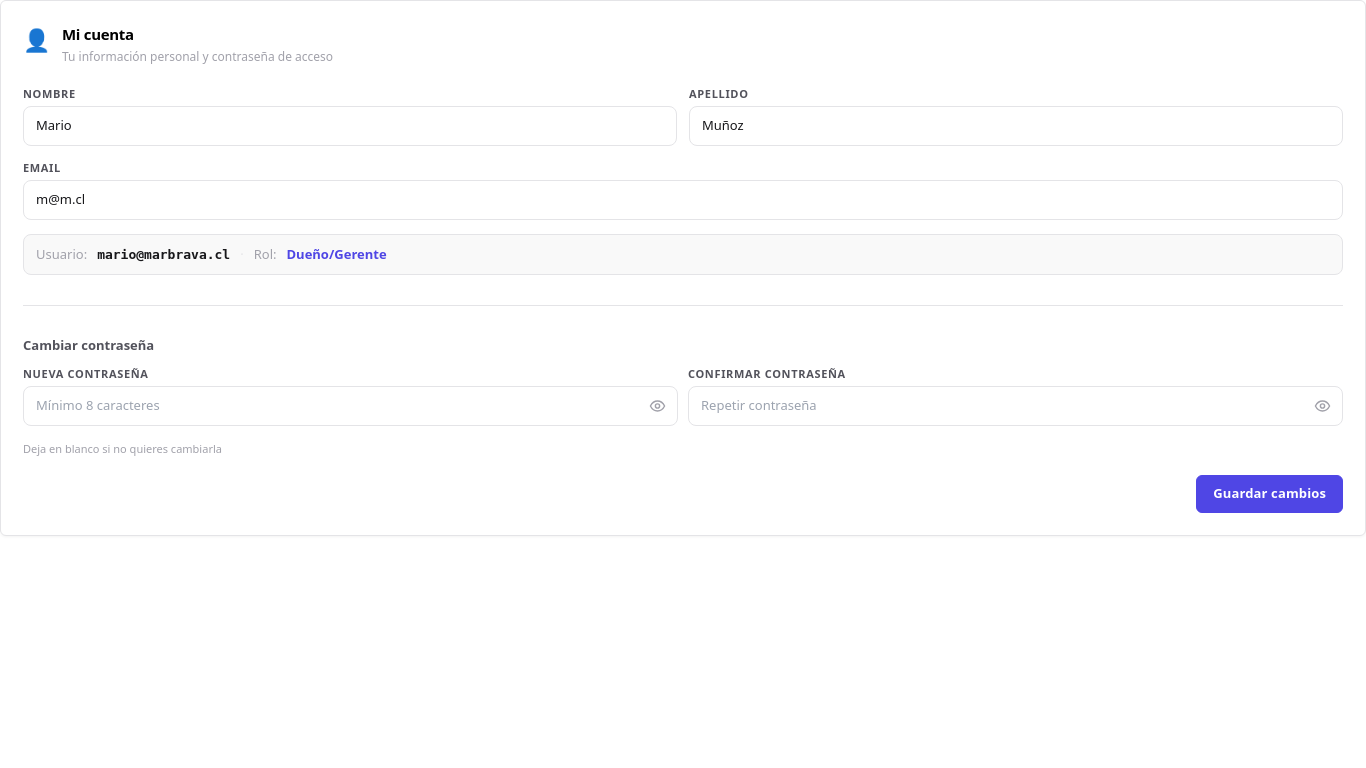
it: AccountTab — Mi cuenta (cambiar contraseña) › bloquea guardar y avisa si las contraseñas NO coinciden
Type "marbrava745" into the password field with test id "acc-pw-new" at (350, 406), box [23,386,678,426]
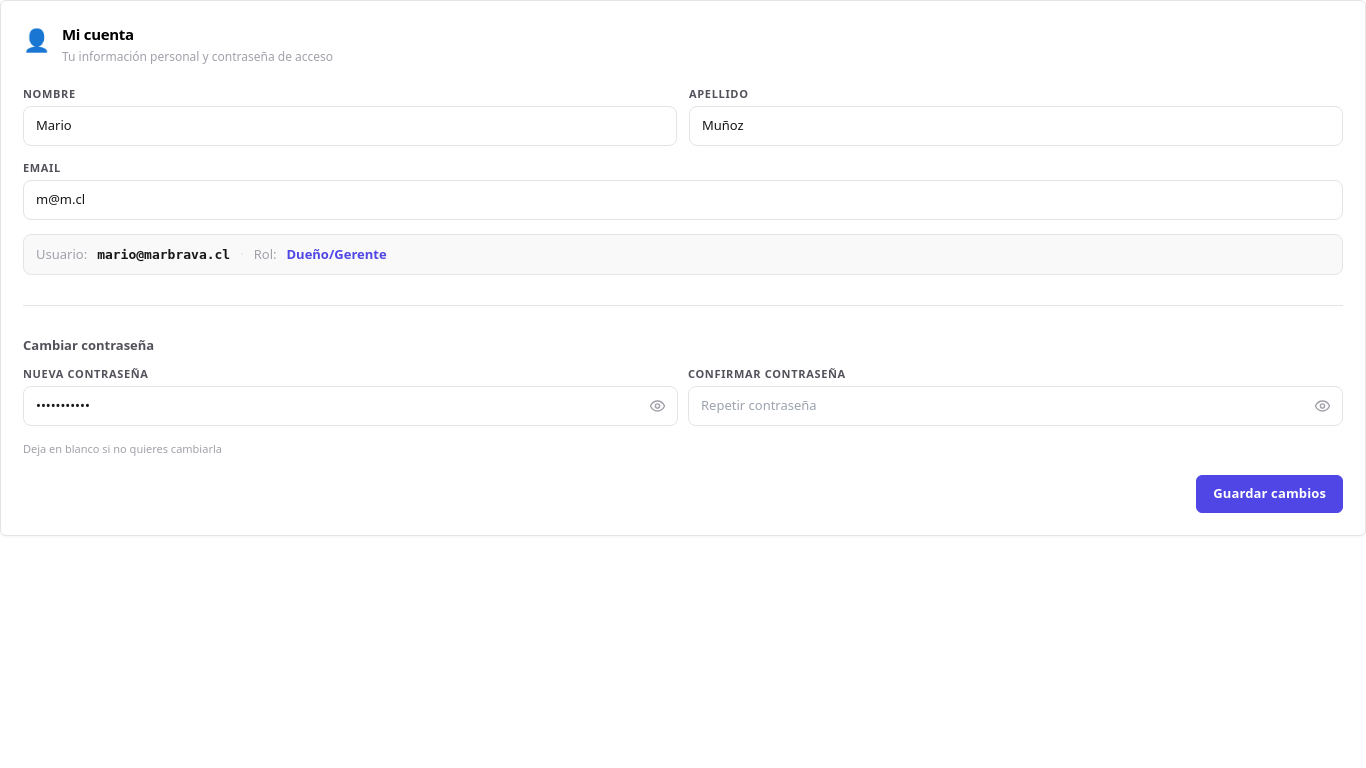
Type "marbrava999" into the password field with test id "acc-pw-conf" at (1016, 406), box [688,386,1343,426]
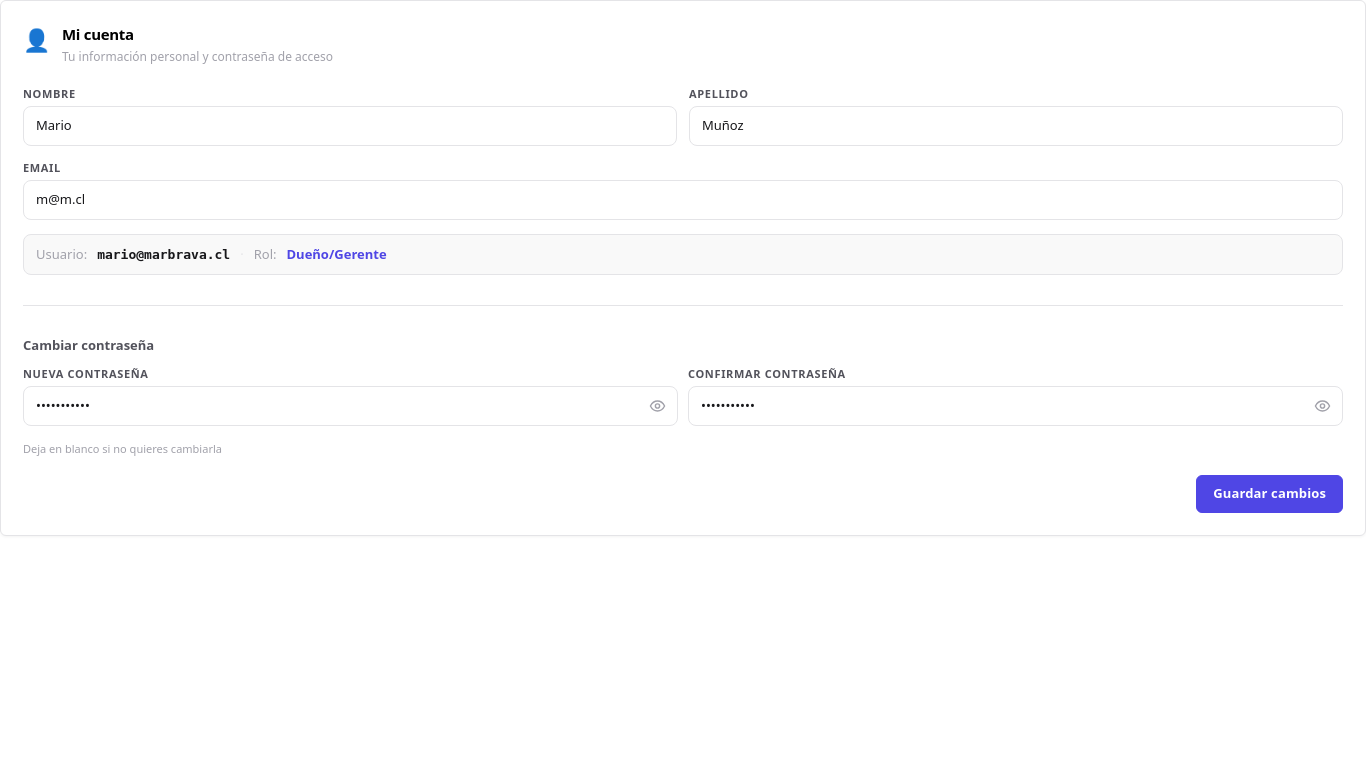
Click the button "Guardar cambios" at (1270, 494), box [1196,475,1343,513]
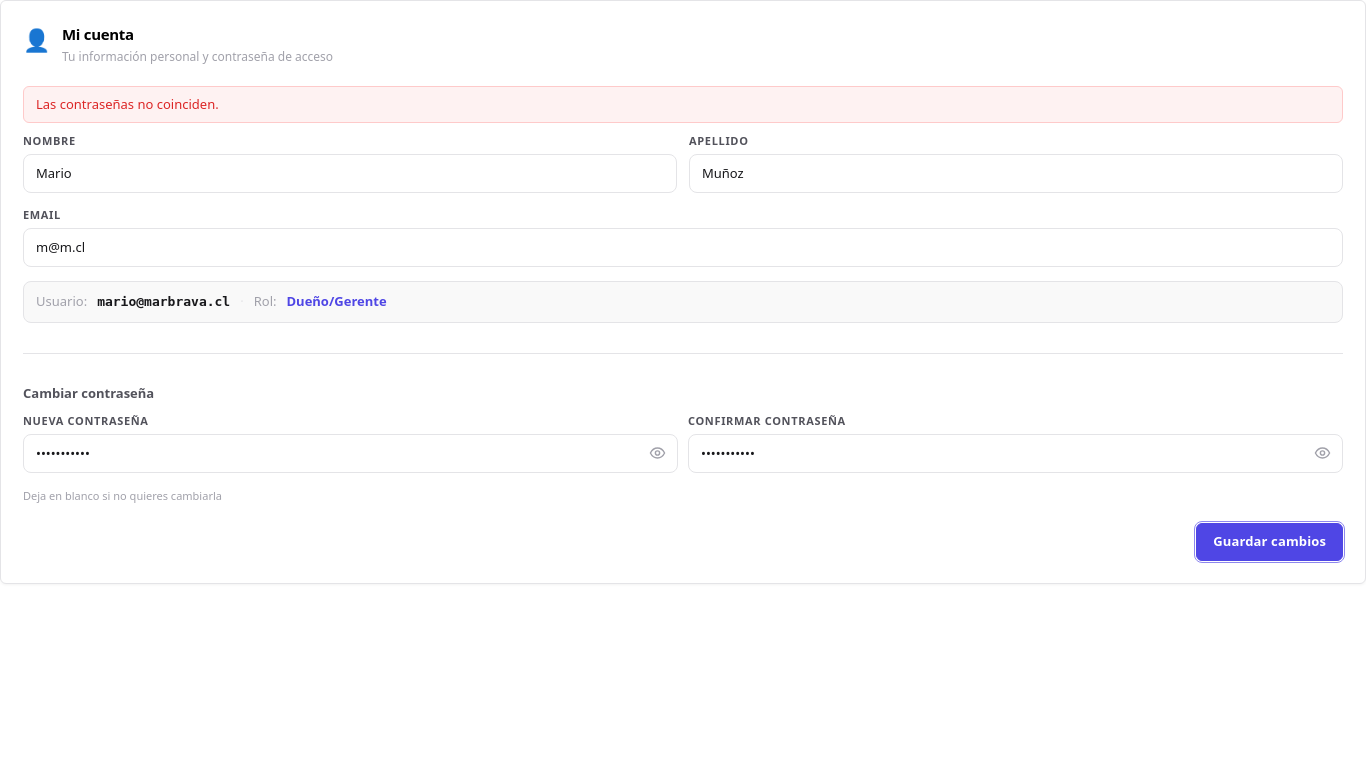
Now the text "Las contraseñas no coinciden." is shown, box [23,86,1343,123]
